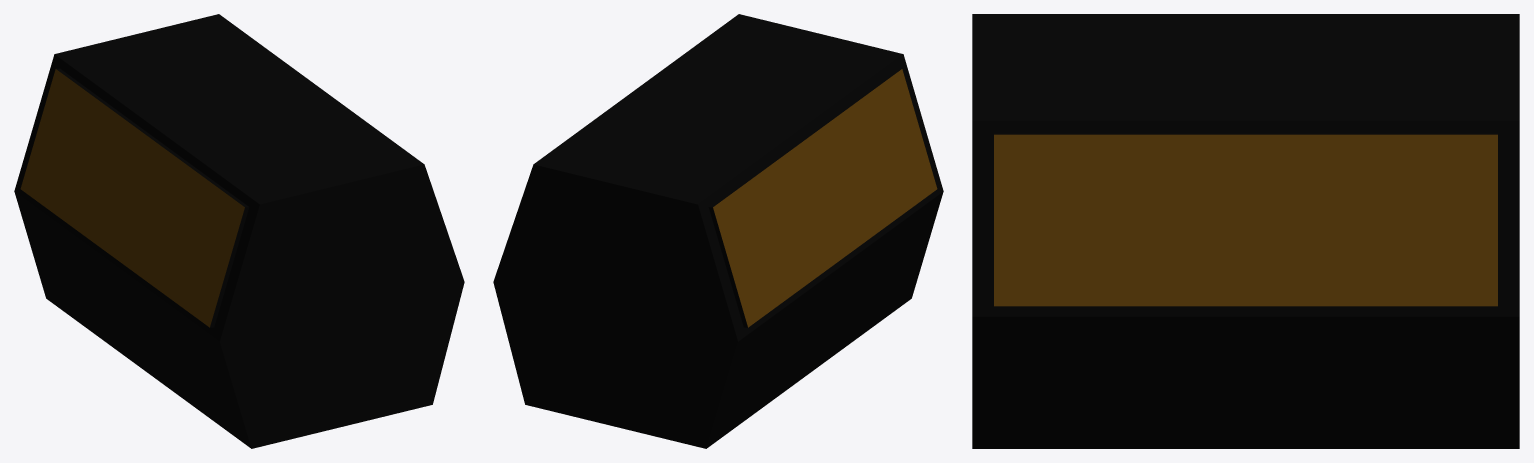
File: E-2_Engine_Part_Wipeout.fbx
The picture shows the model from 3 angles, left to right: view 1: azimuth 30°, elevation 25°; view 2: azimuth 150°, elevation 25°; view 3: azimuth 270°, elevation 25°; orthographic projection. The views are drawn at different scales.
Parts seen in each view (by area): view 1: E-2_Engine_Ship; view 2: E-2_Engine_Ship; view 3: E-2_Engine_Ship.
Boxes of the visible parts, <box> form: E-2_Engine_Ship: <box>14,14,464,448</box>; E-2_Engine_Ship: <box>493,14,943,448</box>; E-2_Engine_Ship: <box>972,14,1519,448</box>.
Bounding box in the file's own units: 302 × 432 × 281.
